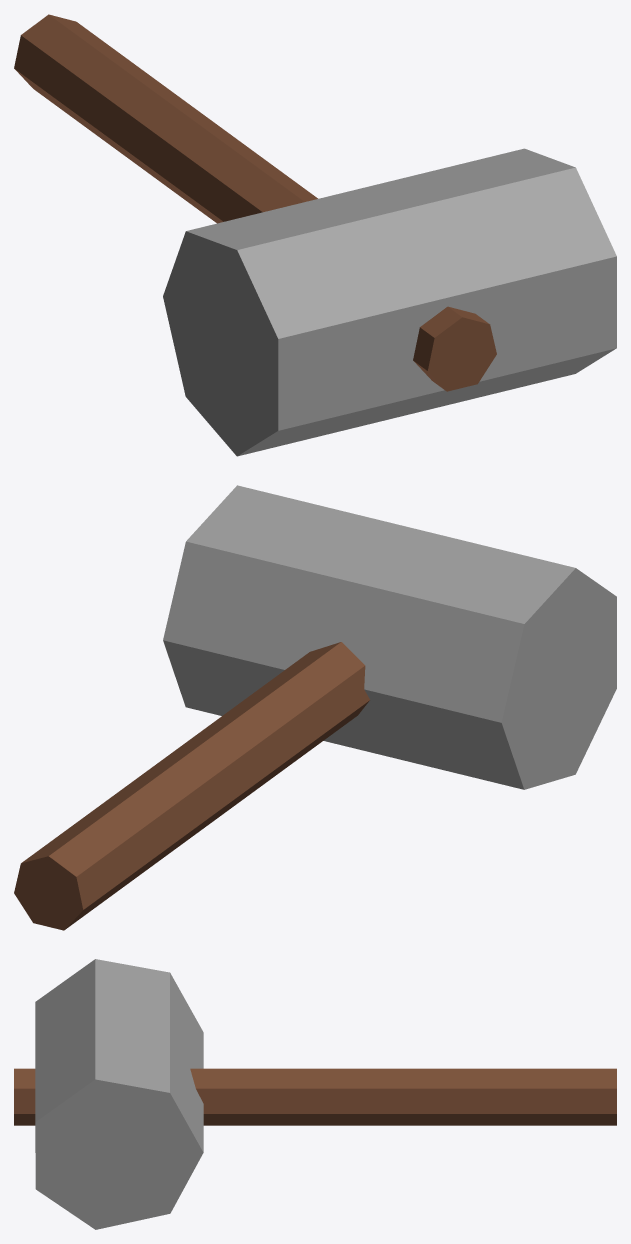
File: molot.fbx
3 renders of one model, top to bottom at view 1: azimuth 30°, elevation 25°; view 2: azimuth 150°, elevation 25°; view 3: azimuth 270°, elevation 25°, orthographic. The views are drawn at different scales.
Parts seen in each view (by area): view 1: molot; view 2: molot; view 3: molot.
Part boxes in pixels (x1,y1,x2,y2): molot: (14,14,616,456); molot: (14,485,616,930); molot: (14,959,616,1229).
Bounding box in the file's own units: 368 × 214 × 778.
